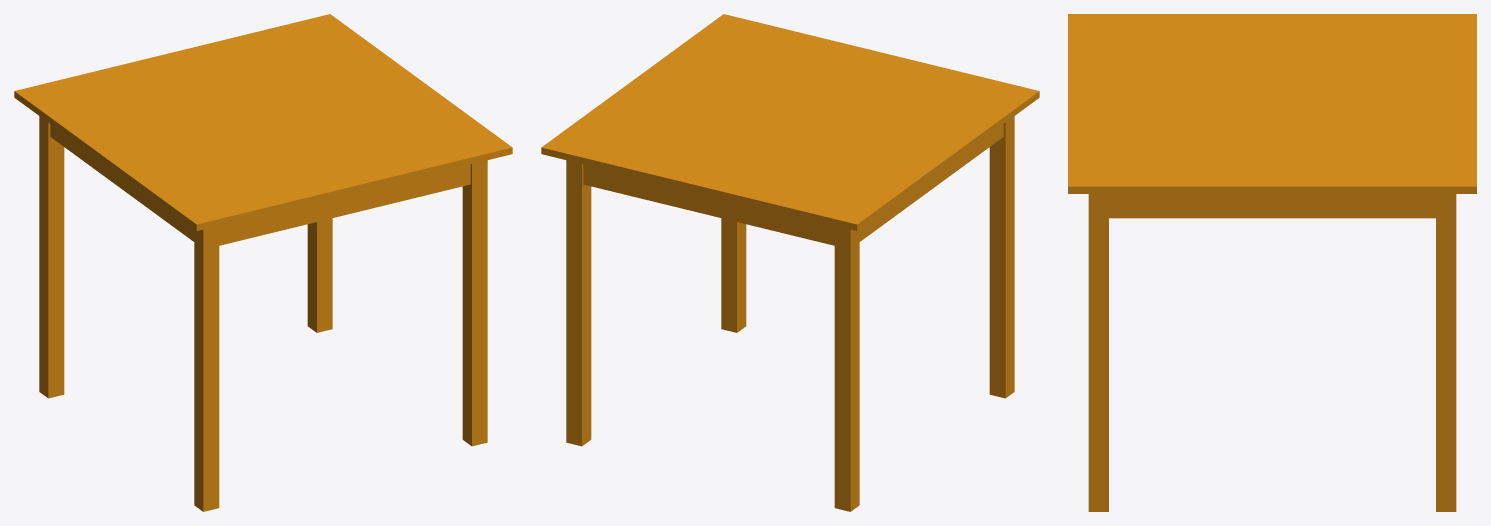
The model's file is table_3.dae.
The picture shows the model from 3 angles, left to right: view 1: azimuth 30°, elevation 25°; view 2: azimuth 150°, elevation 25°; view 3: azimuth 270°, elevation 25°; orthographic projection. The views are drawn at different scales.
Parts seen in each view (by area): view 1: Cube; view 2: Cube; view 3: Cube.
Boxes of the visible parts, box(x1,y1,x2,y2) form: Cube: box(14, 14, 512, 511); Cube: box(541, 14, 1039, 511); Cube: box(1068, 14, 1476, 511).
Bounding box in the file's own units: 0.8 × 0.8 × 0.721.
